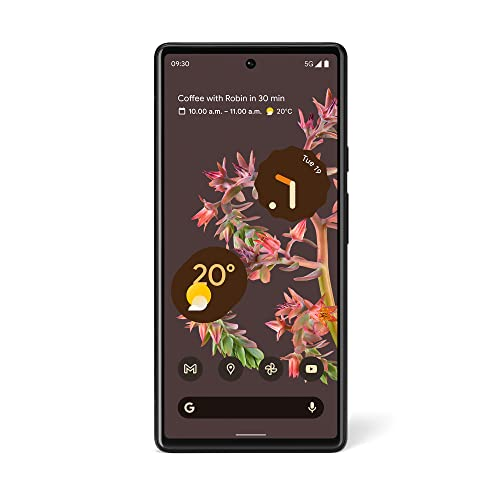phone: (144, 23, 358, 464)
